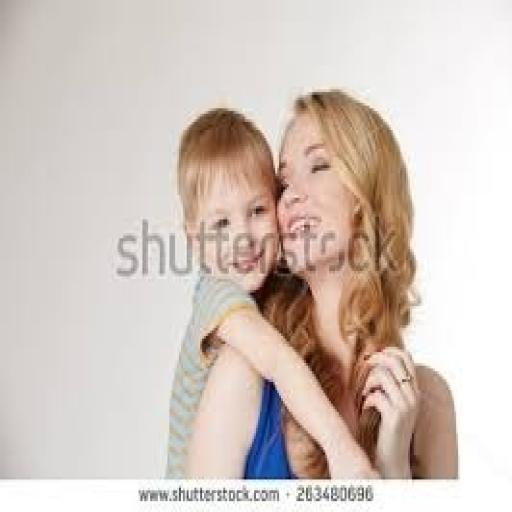hugging: (166, 86, 458, 480)
